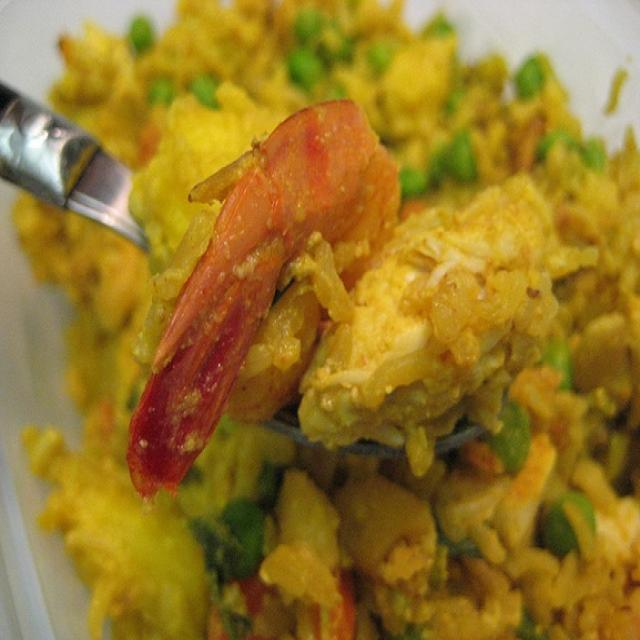炸货点心: (10, 15, 626, 612)
熟制海鲜: (10, 15, 626, 612)
